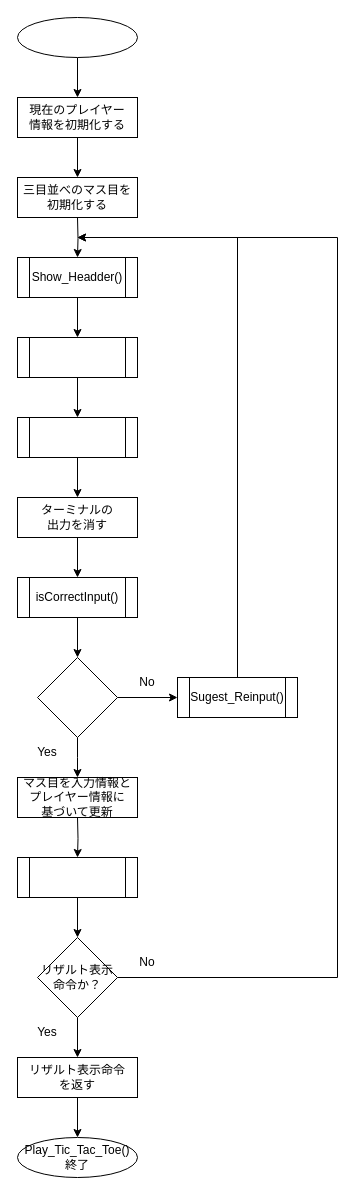
Image size: 363x1203. Some labels were removed from this diagram. Each missing label, with the centre of its shape:
Get_Input(): pixel 77 437
isCorrectInput() の返り値がTRUEか？: pixel 77 697
isGameEnded(): pixel 77 877
Play_Tic_Tac_Toe() 開始: pixel 77 37
Show_GameInfo(): pixel 77 357
